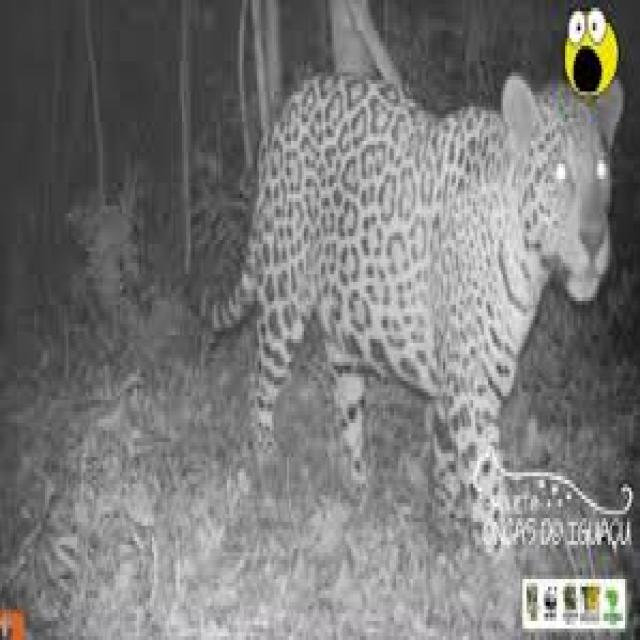Jaguar: (197, 69, 625, 548)
